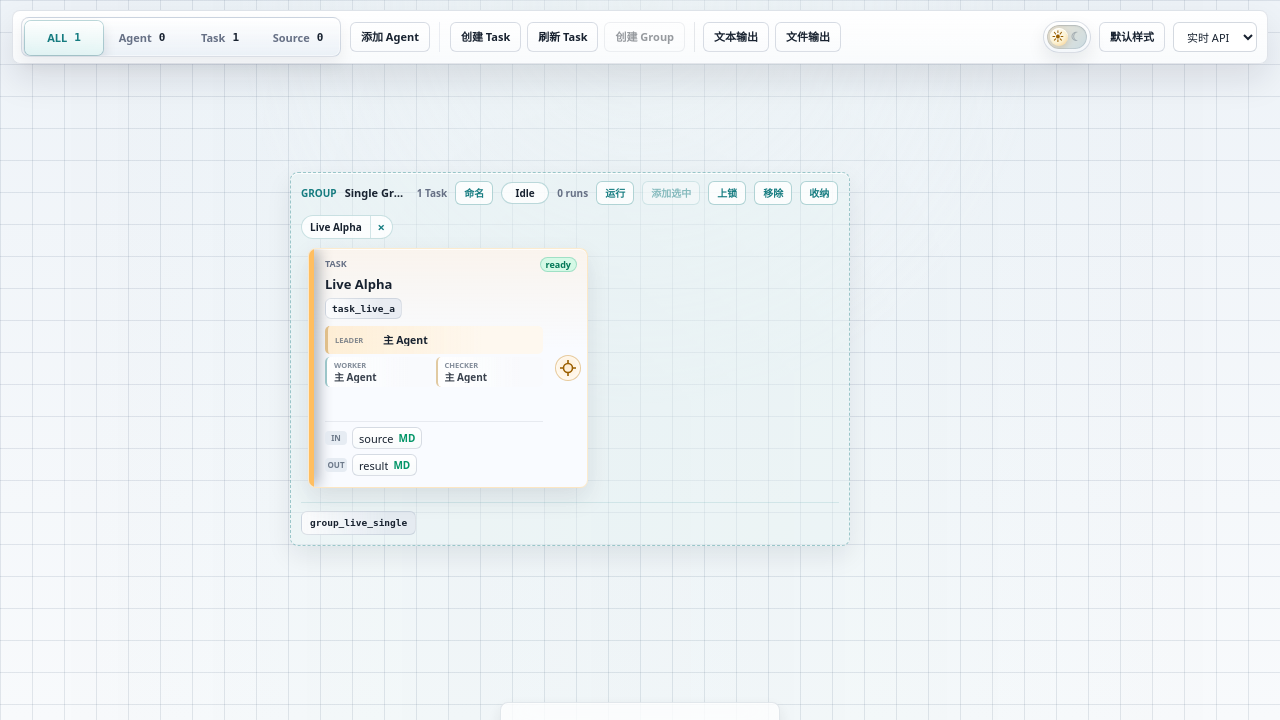
Test: App › live Task Groups › removes the final Live Group member and keeps the empty Group visible
Step 1. Click the button named "移除成员 Live Alpha" → {"x": 381, "y": 227}, box [370,216,392,238]
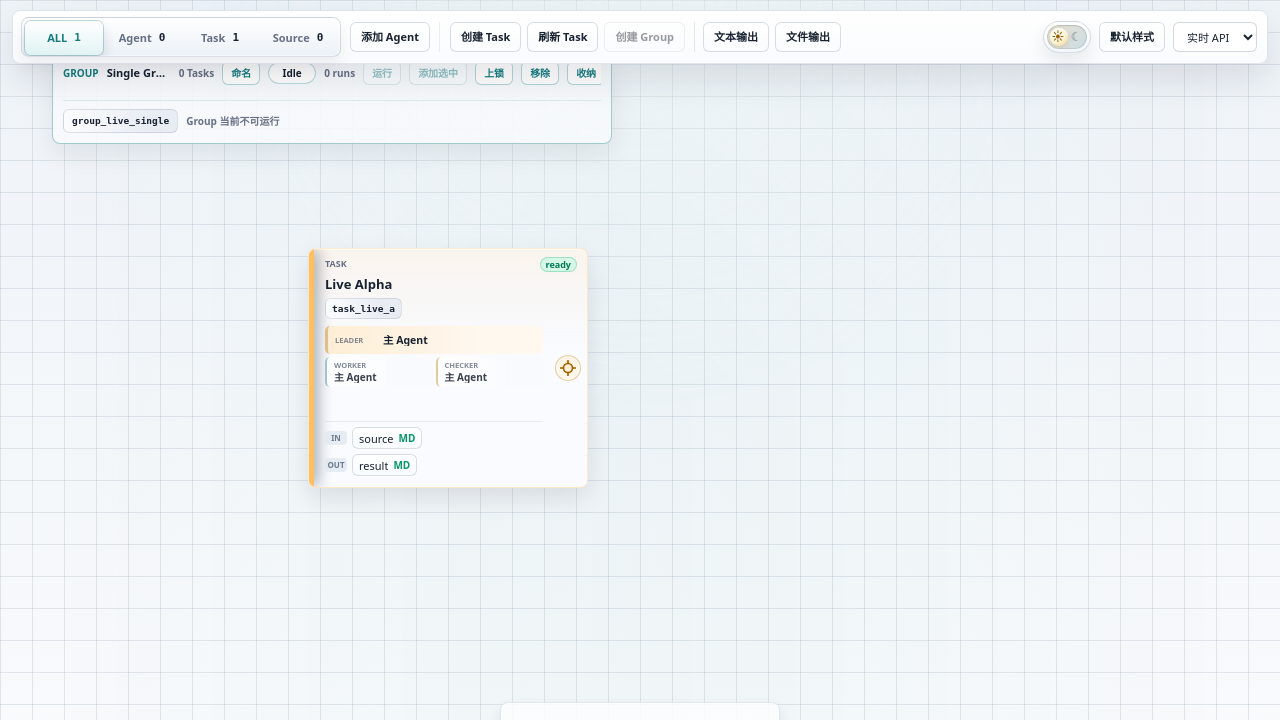
Now the text "0 Tasks" is shown, box [179,65,214,81]
Now the button with aria-label "运行 Single Group" is disabled, box [363,61,401,85]
